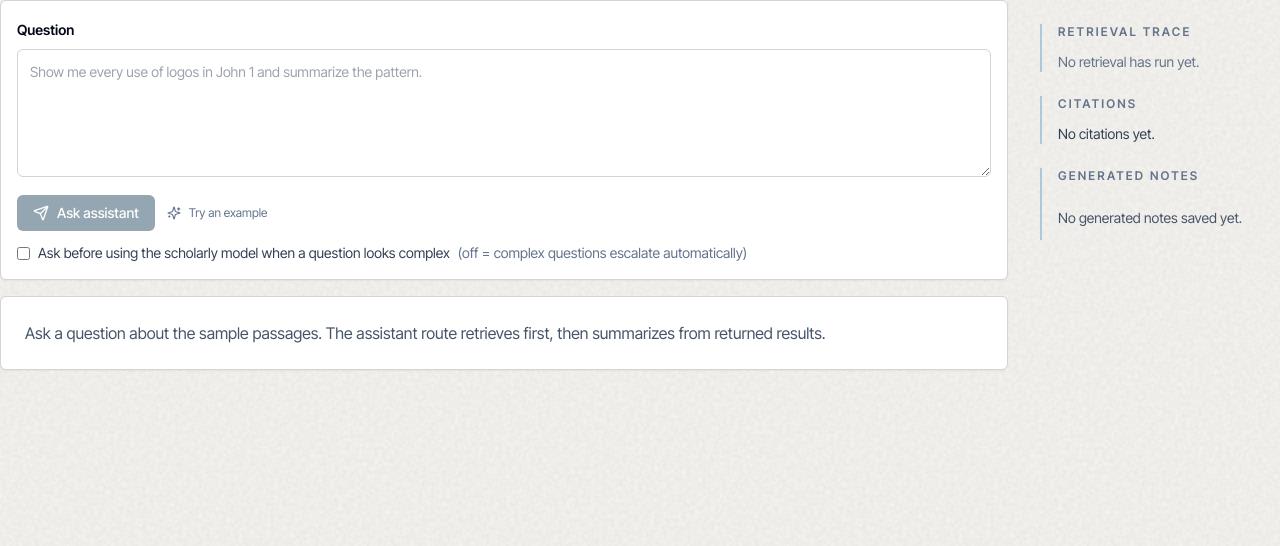
it: AiAssistant scholarly escalation › hides the scholarly button on a non-live fallback (modelUsed none) — escalation can't work
Replace the text in the text box with placeholder "Show me every use" with "simple question" at (504, 113), box [17,49,991,177]
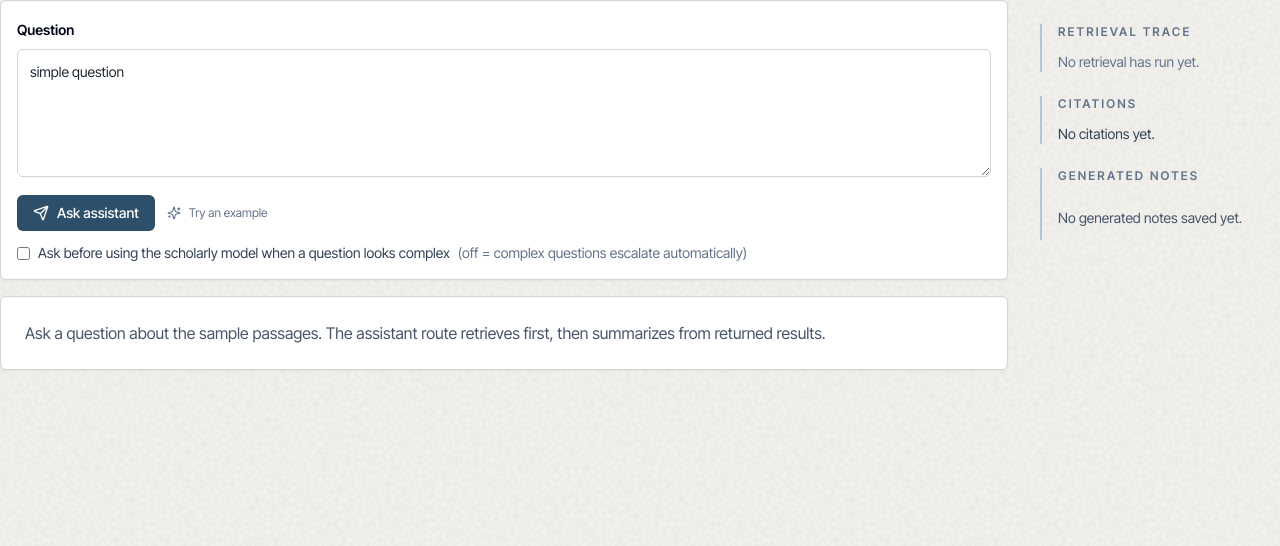
Click the button "Ask assistant" at (86, 213), box [17,195,155,231]
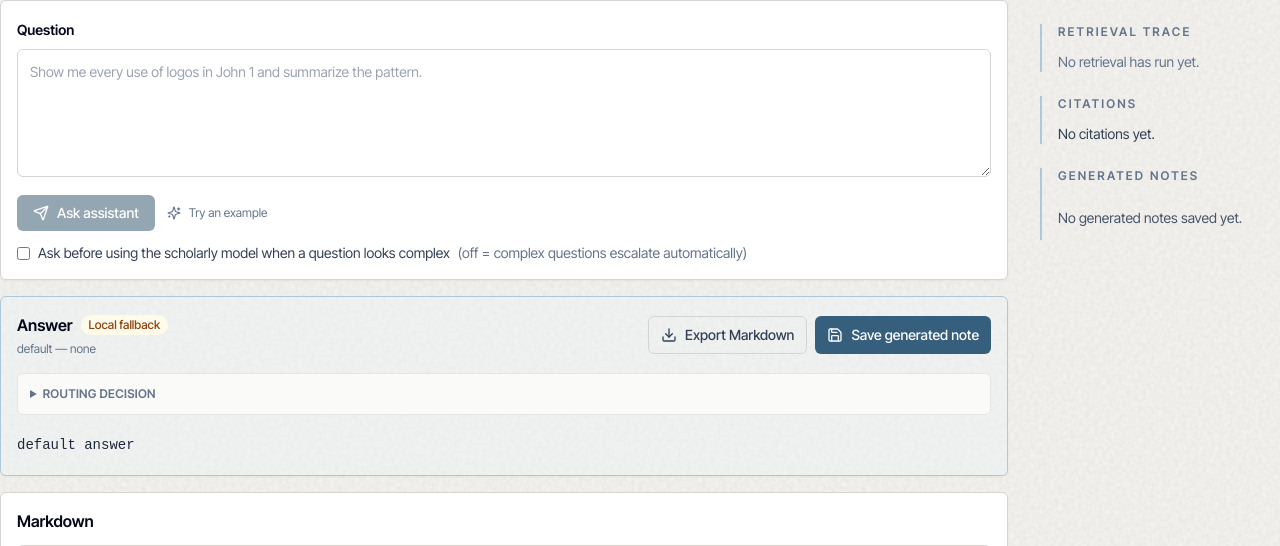
Expected: the text "default answer" is shown, [17,437,135,453]
